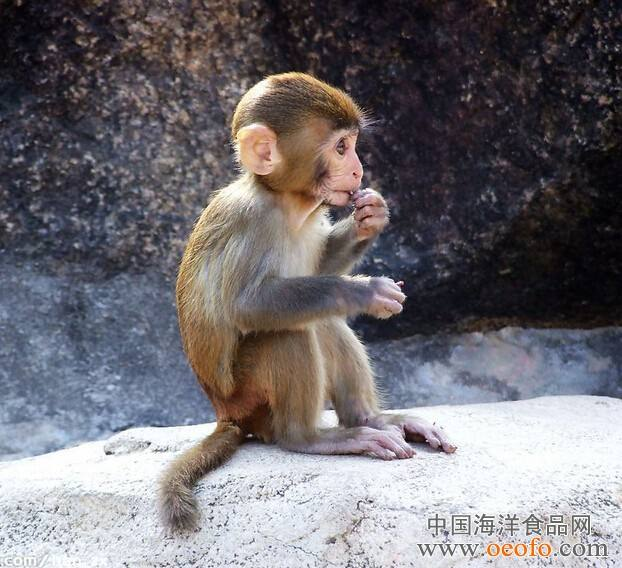monkey: (133, 61, 470, 537)
